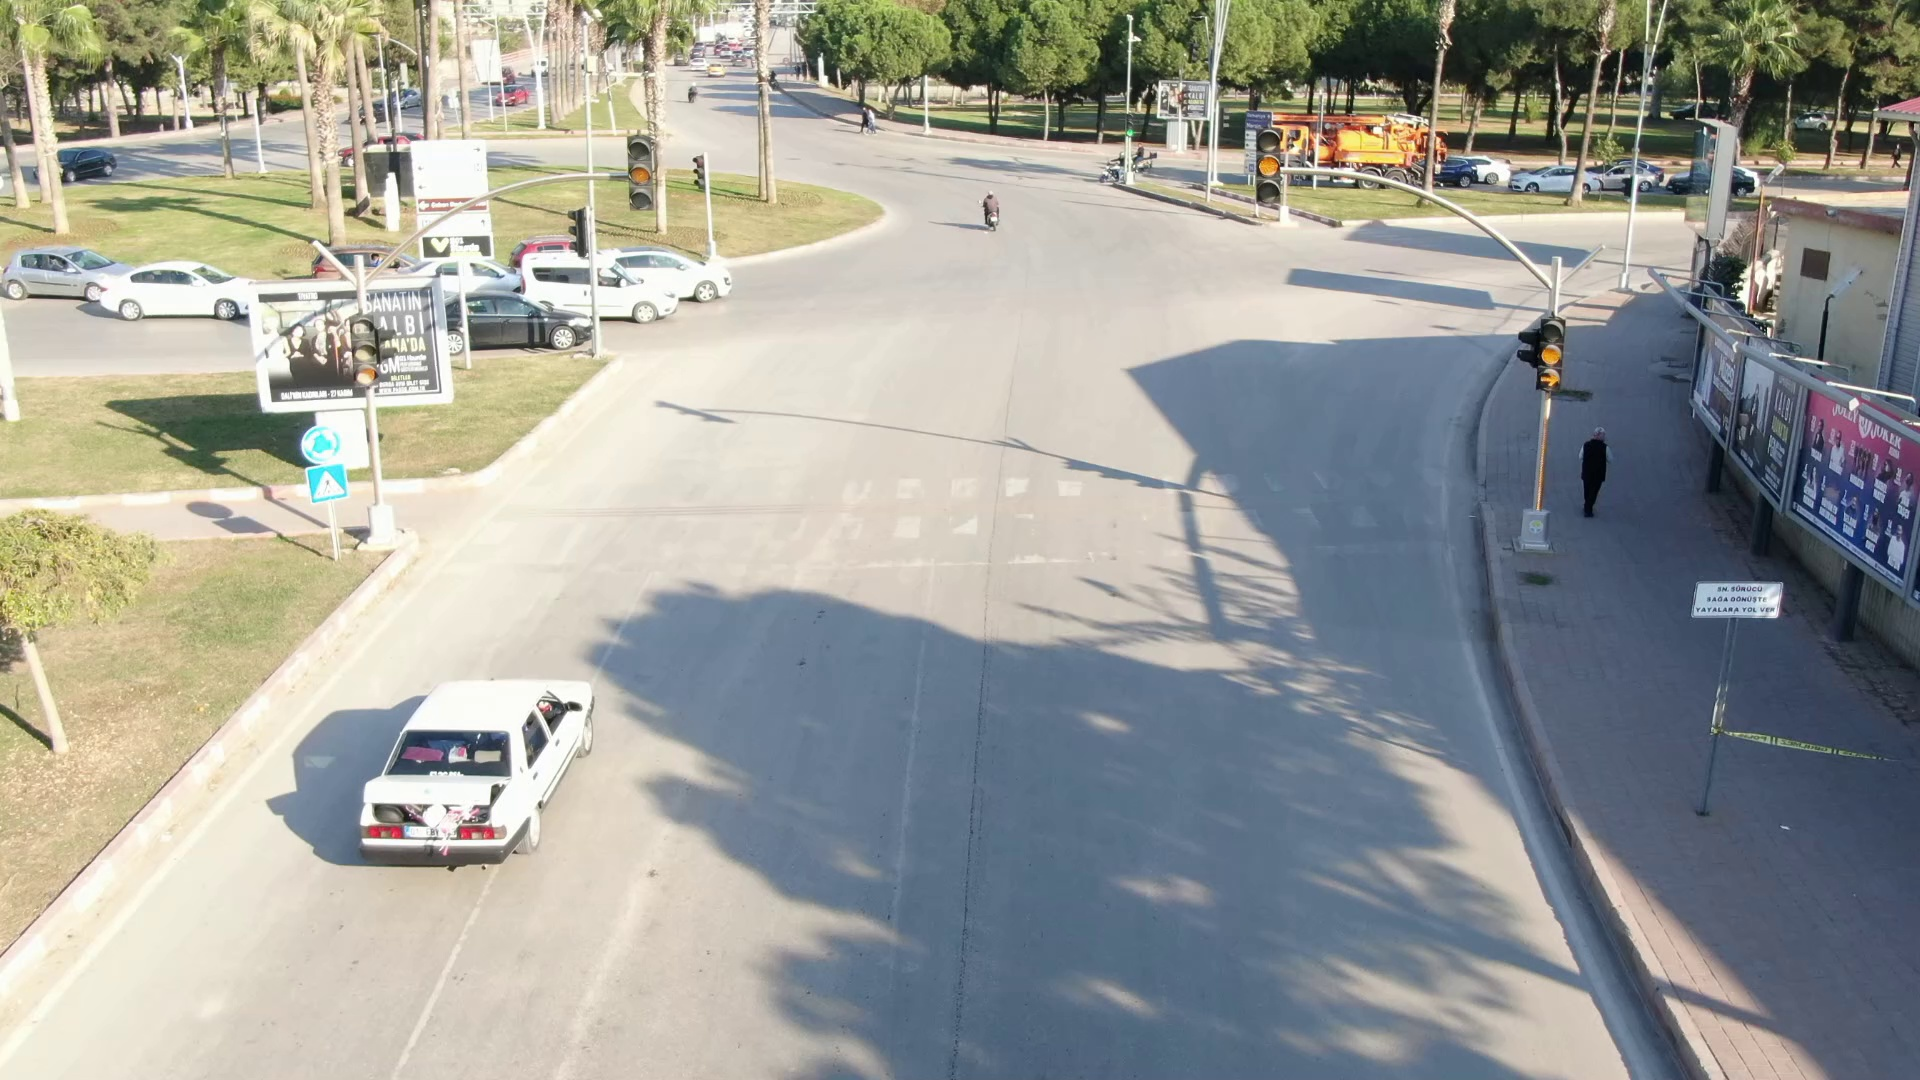car: (370, 655, 608, 884), (519, 245, 686, 317), (445, 288, 596, 349), (94, 268, 257, 319), (1, 237, 123, 298)
person: (1568, 415, 1621, 515), (963, 180, 1014, 241)
